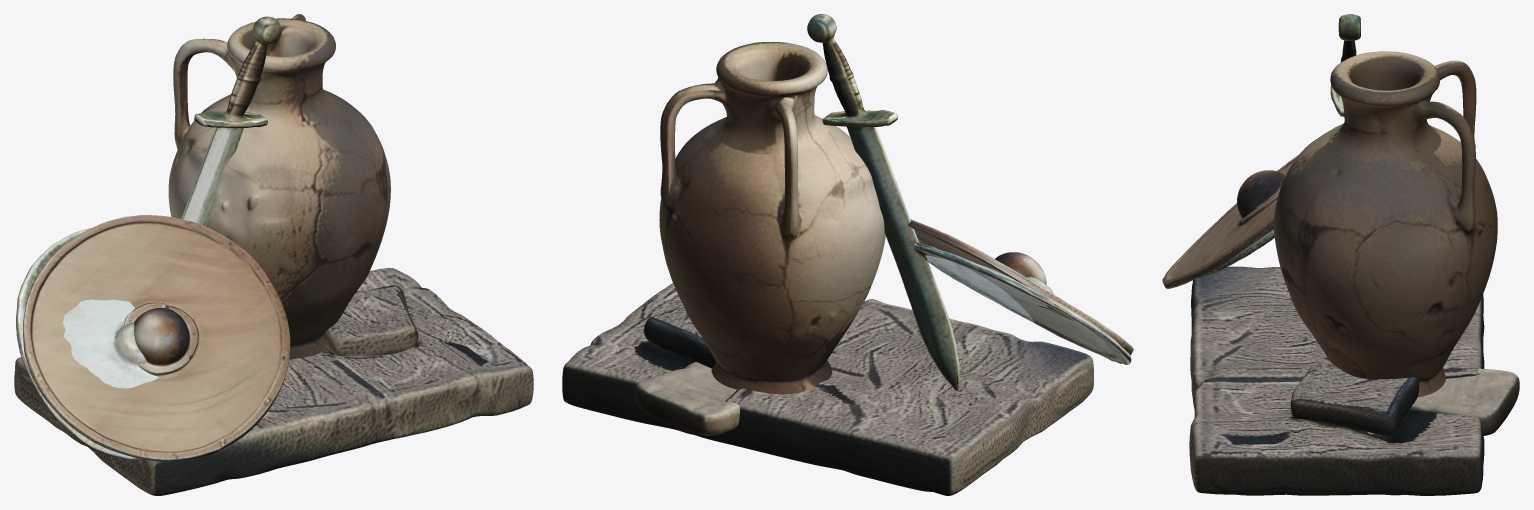
The model's file is midi_textured.glb.
3 views of the same model, side by side, from view 1: azimuth 30°, elevation 25°; view 2: azimuth 150°, elevation 25°; view 3: azimuth 270°, elevation 25° (orthographic). The views are drawn at different scales.
Parts seen in each view (by area): view 1: geometry_038bc42da90b0, geometry_0508002a1a9be, geometry_0531605c15604, geometry_0; view 2: geometry_0508002a1a9be, geometry_0531605c15604, geometry_0, geometry_0c6b0ab2cf89d, geometry_038bc42da90b0; view 3: geometry_0508002a1a9be, geometry_0531605c15604, geometry_038bc42da90b0, geometry_0c6b0ab2cf89d, geometry_0.
Part boxes in pixels (x1,y1,x2,y2): geometry_038bc42da90b0: [23, 215, 290, 461]; geometry_0508002a1a9be: [168, 14, 390, 359]; geometry_0531605c15604: [14, 268, 533, 495]; geometry_0: [16, 16, 281, 460]; geometry_0508002a1a9be: [659, 42, 885, 394]; geometry_0531605c15604: [562, 283, 1093, 495]; geometry_0: [807, 14, 1131, 391]; geometry_0c6b0ab2cf89d: [634, 362, 766, 435]; geometry_038bc42da90b0: [908, 219, 1133, 354]; geometry_0508002a1a9be: [1274, 51, 1497, 396]; geometry_0531605c15604: [1189, 266, 1484, 495]; geometry_038bc42da90b0: [1162, 155, 1298, 288]; geometry_0c6b0ab2cf89d: [1409, 364, 1519, 435]; geometry_0: [1195, 14, 1360, 279].
Size of the model in its own units: 1.9 by 1.51 by 1.26.
Materials: 5 (5 with a texture image).
